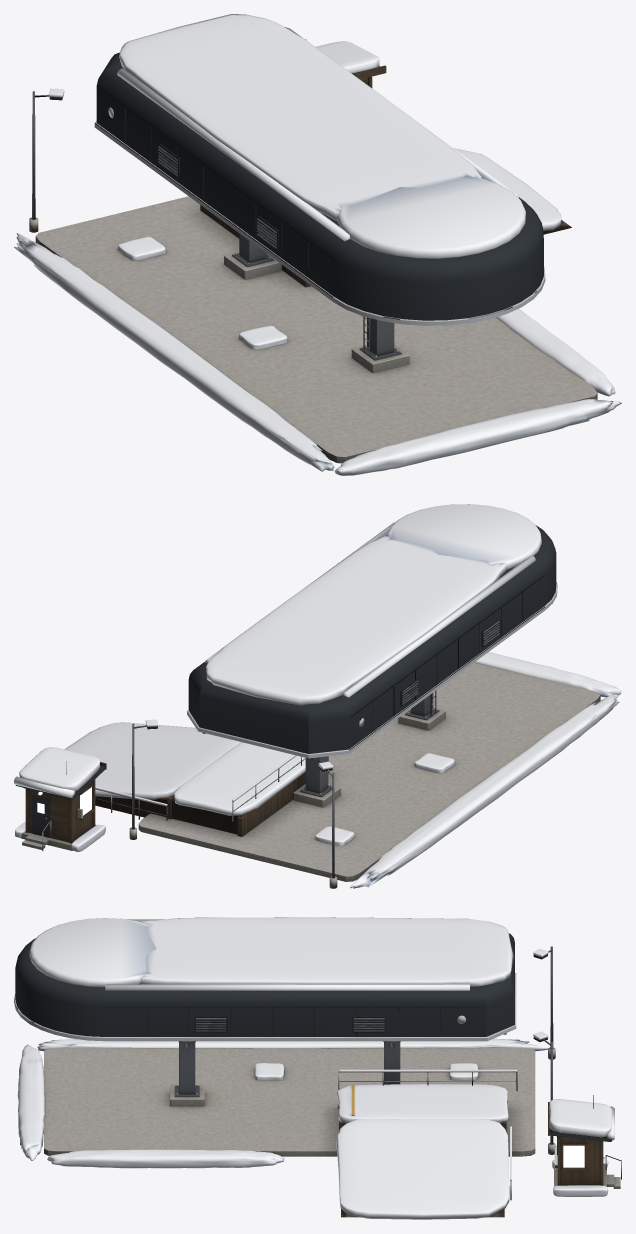
The model's file is terminal_detach_top.glb.
The picture shows the model from 3 angles, top to bottom: view 1: azimuth 30°, elevation 25°; view 2: azimuth 150°, elevation 25°; view 3: azimuth 270°, elevation 25°; orthographic projection. The views are drawn at different scales.
Parts seen in each view (by area): view 1: terminal_detach_top_snow, terminal_detach_top, terminal_detach_top_paint; view 2: terminal_detach_top_snow, terminal_detach_top, terminal_detach_top_paint; view 3: terminal_detach_top_snow, terminal_detach_top, terminal_detach_top_paint, terminal_detach_top_lit.
Part boxes in pixels (left/top/right/bottom): terminal_detach_top_snow: left=14, top=14, right=621, bottom=475; terminal_detach_top: left=29, top=39, right=597, bottom=463; terminal_detach_top_paint: left=96, top=27, right=543, bottom=320; terminal_detach_top_snow: left=14, top=504, right=621, bottom=888; terminal_detach_top: left=15, top=575, right=600, bottom=888; terminal_detach_top_paint: left=188, top=525, right=556, bottom=753; terminal_detach_top_snow: left=17, top=917, right=614, bottom=1219; terminal_detach_top: left=14, top=946, right=621, bottom=1217; terminal_detach_top_paint: left=15, top=933, right=514, bottom=1036; terminal_detach_top_lit: left=563, top=1145, right=584, bottom=1167.
Size of the model in its own units: 20.33 by 9.05 by 29.68.
Materials: 5 (1 with a texture image).
